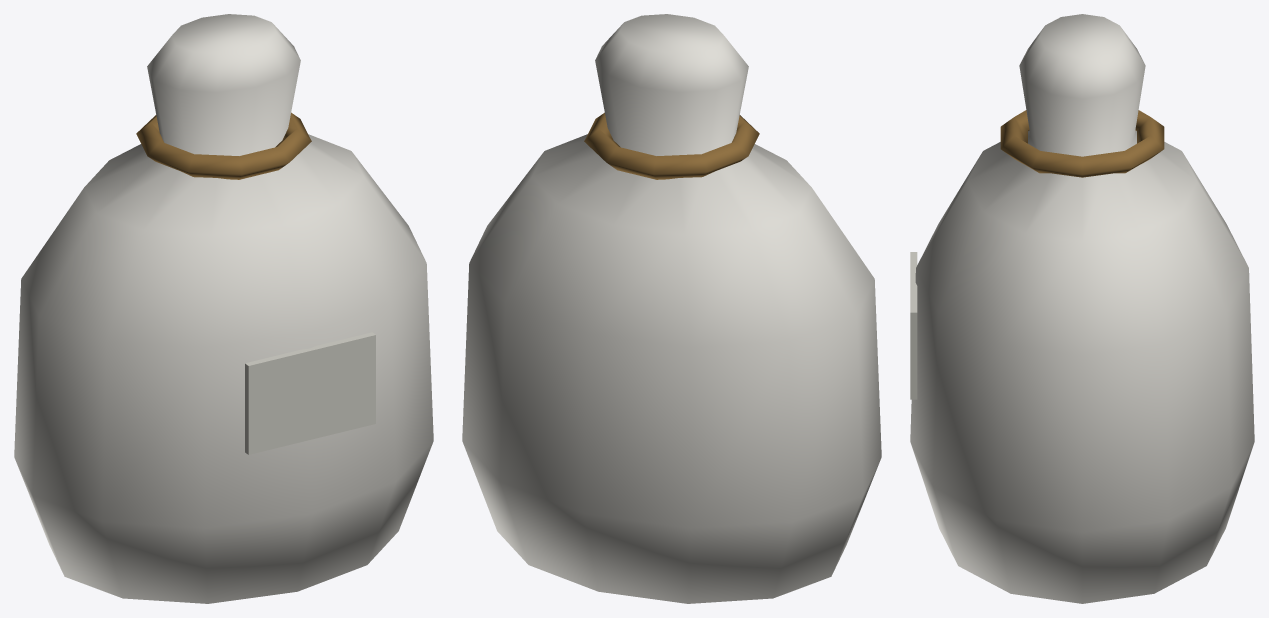
The model's file is Proc_Quicklime.fbx.
3 renders of one model, left to right at view 1: azimuth 30°, elevation 25°; view 2: azimuth 150°, elevation 25°; view 3: azimuth 270°, elevation 25°, orthographic. The views are drawn at different scales.
Visible parts, largest first — view 1: Proc_Quicklime__Stack; view 2: Proc_Quicklime__Stack; view 3: Proc_Quicklime__Stack.
Boxes of the visible parts, <box> form: Proc_Quicklime__Stack: <box>14,14,433,603</box>; Proc_Quicklime__Stack: <box>462,14,881,603</box>; Proc_Quicklime__Stack: <box>910,14,1254,603</box>.
Size of the model in its own units: 0.216 by 0.272 by 0.1728.
